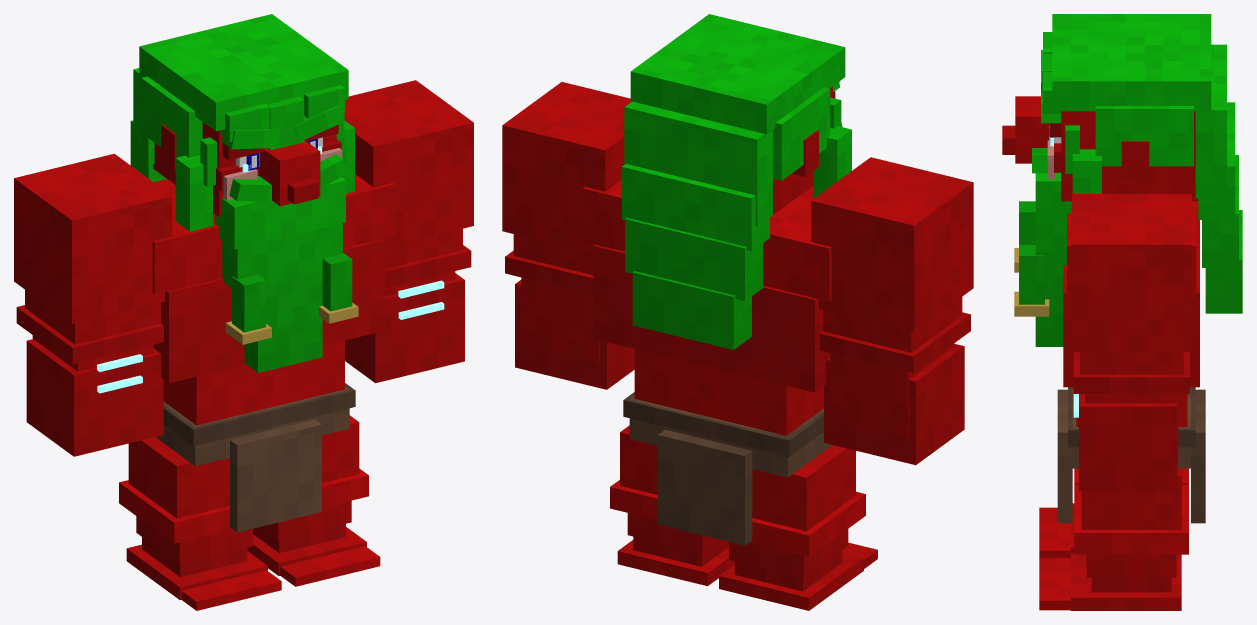
File: dwarf_s1_evo1.glb
3 views of the same model, side by side, from view 1: azimuth 30°, elevation 25°; view 2: azimuth 150°, elevation 25°; view 3: azimuth 270°, elevation 25° (orthographic). The views are drawn at different scales.
Visible parts, largest first — view 1: Head, Torso, ArmR, ArmL, LegR, LegL; view 2: Head, Torso, ArmR, ArmL, LegR, LegL; view 3: Head, ArmL, LegL, Torso, LegR.
Part boxes in pixels (x1,y1,x2,y2): Head: (130,14,358,372); Torso: (152,174,395,532); ArmR: (14,153,172,456); ArmL: (344,80,473,383); LegR: (119,437,281,610); LegL: (247,415,380,586); Head: (622,14,851,349); Torso: (582,180,831,545); ArmR: (811,157,973,465); ArmL: (502,82,634,389); LegR: (719,445,877,610); LegL: (610,425,734,586); Head: (1002,14,1242,346); ArmL: (1071,194,1191,490); LegL: (1039,468,1188,610); Torso: (1057,201,1205,523); LegR: (1039,468,1188,557).
Size of the model in its own units: 1.3 by 1.54 by 0.65.
Materials: 25 (25 with a texture image).
